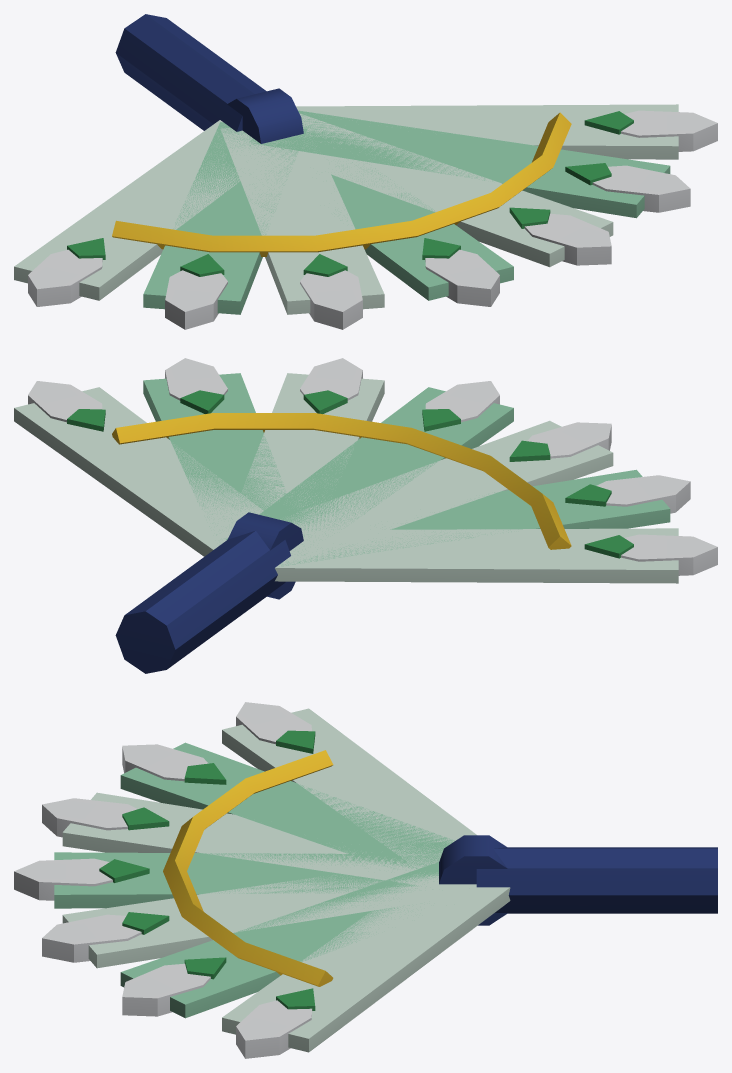
File: w_y_fan.glb
The picture shows the model from 3 angles, top to bottom: view 1: azimuth 30°, elevation 25°; view 2: azimuth 150°, elevation 25°; view 3: azimuth 270°, elevation 25°; orthographic projection.
Visible parts, largest first — view 1: body; view 2: body; view 3: body.
Part boxes in pixels (x1,y1,x2,y2): body: [14, 14, 717, 329]; body: [14, 358, 717, 673]; body: [14, 702, 717, 1058].
Bounding box in the file's own units: 0.478 × 0.0457 × 0.42.
